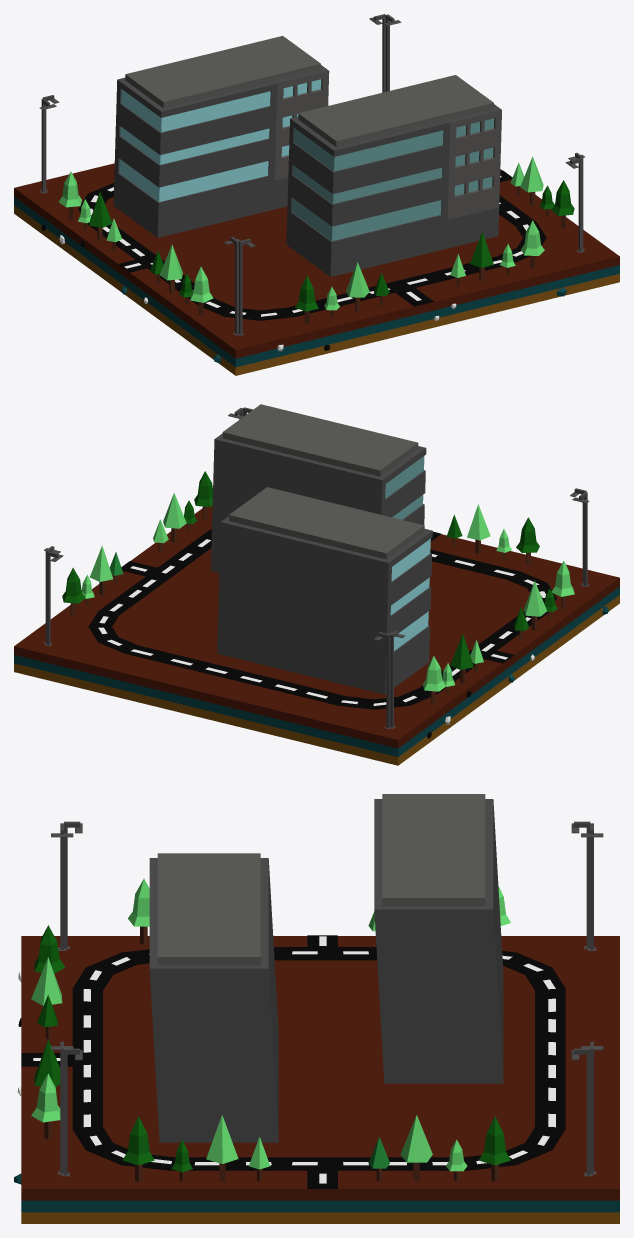
The picture shows the model from 3 angles, top to bottom: view 1: azimuth 30°, elevation 25°; view 2: azimuth 150°, elevation 25°; view 3: azimuth 270°, elevation 25°; orthographic projection. The views are drawn at different scales.
Visible parts, largest first — view 1: Cube.053, Cube.003, Cube.004, Cube.001, Cube.002, Plane.008, Cube.005, Commercial building lowpoly 01.029, Commercial building lowpoly 01.030, Commercial building lowpoly 01.043, Commercial building lowpoly 01.020, Plane.007 (+10 smaller); view 2: Cube.053, Cube.003, Plane.008, Cube.001, Cube.002, Plane.007, Commercial building lowpoly 01.020, Cube.004, Commercial building lowpoly 01.030, Commercial building lowpoly 01.029, Commercial building, Commercial building lowpoly 01.034 (+8 smaller); view 3: Cube.003, Cube.053, Plane.008, Cube.001, Cube.002, Plane.007, Commercial building lowpoly 01.030, Commercial building lowpoly 01.043, Commercial building lowpoly 01.020, Commercial building lowpoly 01.029, Commercial building lowpoly 01.044, Commercial building lowpoly 01.033 (+7 smaller).
Boxes of the visible parts, <box> form: Cube.053: <box>113,36,501,276</box>; Cube.003: <box>14,163,619,358</box>; Cube.004: <box>292,128,443,240</box>; Cube.001: <box>14,196,619,367</box>; Cube.002: <box>14,205,619,375</box>; Plane.008: <box>78,183,546,320</box>; Cube.005: <box>454,118,494,195</box>; Commercial building lowpoly 01.029: <box>223,237,255,335</box>; Commercial building lowpoly 01.030: <box>369,14,401,92</box>; Commercial building lowpoly 01.043: <box>565,152,585,252</box>; Commercial building lowpoly 01.020: <box>39,95,59,193</box>; Plane.007: <box>90,187,528,316</box>; Cube.053: <box>210,404,432,694</box>; Cube.003: <box>14,506,619,748</box>; Plane.008: <box>88,529,556,709</box>; Cube.001: <box>14,586,619,756</box>; Cube.002: <box>14,595,619,765</box>; Plane.007: <box>98,539,545,705</box>; Commercial building lowpoly 01.020: <box>373,630,405,729</box>; Cube.004: <box>385,456,424,519</box>; Commercial building lowpoly 01.030: <box>44,546,63,646</box>; Commercial building lowpoly 01.029: <box>570,488,589,586</box>; Commercial building: <box>62,567,85,616</box>; Commercial building lowpoly 01.034: <box>523,581,546,630</box>; Cube.003: <box>21,936,619,1200</box>; Cube.053: <box>149,794,503,1142</box>; Plane.008: <box>72,947,565,1170</box>; Cube.001: <box>21,1200,619,1212</box>; Cube.002: <box>21,1212,619,1223</box>; Plane.007: <box>83,951,555,1165</box>; Commercial building lowpoly 01.030: <box>571,1041,603,1176</box>; Commercial building lowpoly 01.043: <box>51,1041,82,1176</box>; Commercial building lowpoly 01.020: <box>571,821,603,950</box>; Commercial building lowpoly 01.029: <box>51,821,82,950</box>; Commercial building lowpoly 01.044: <box>31,1073,60,1139</box>; Commercial building lowpoly 01.033: <box>400,1115,432,1181</box>.
Size of the model in its own units: 1.56 by 0.6163 by 1.56.
